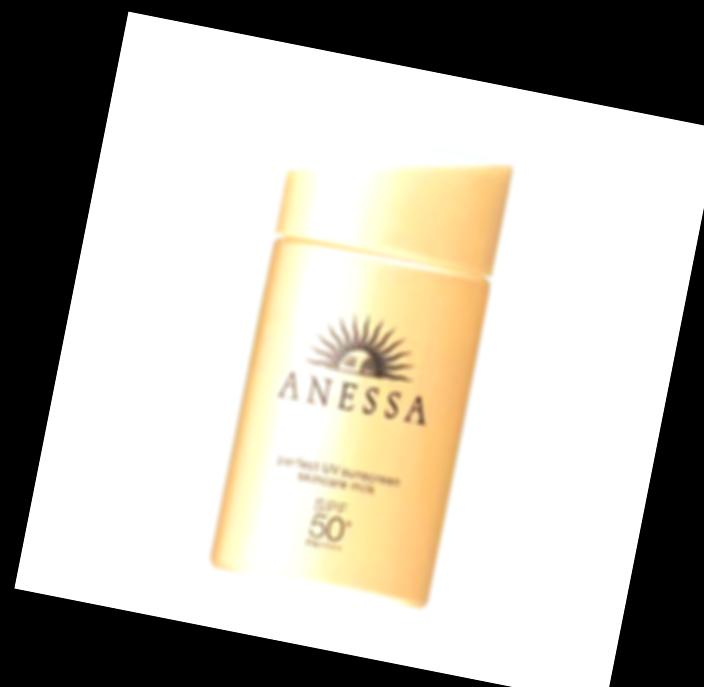cosmetic: (211, 118, 517, 605)
